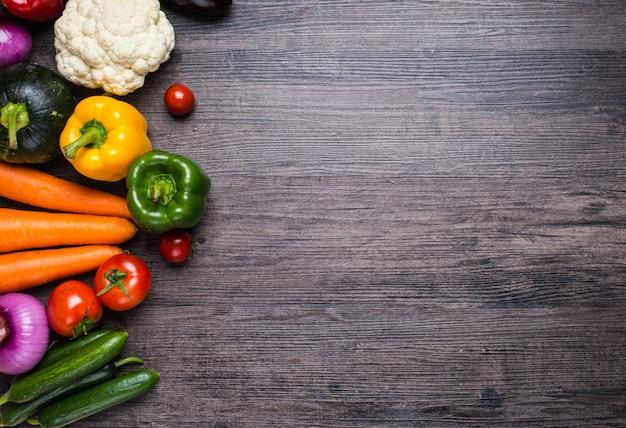bell pepper: (127, 155, 229, 241), (76, 85, 183, 165)
carrot: (0, 164, 130, 218), (0, 245, 124, 296), (0, 209, 134, 254)
cauliflower: (55, 1, 183, 84)
onion: (0, 285, 62, 374)
tomato: (47, 277, 208, 341)
